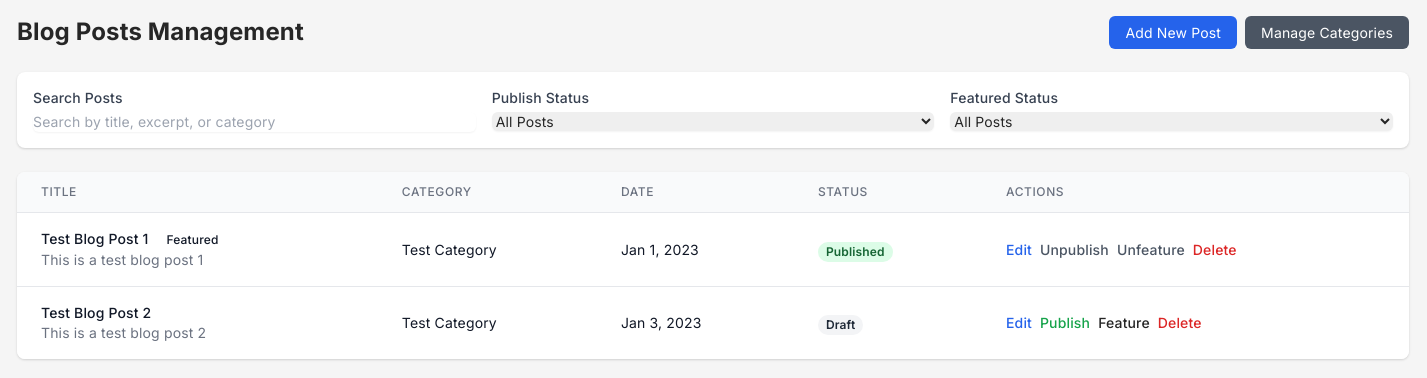
Test: BlogPostsManagement Component › should filter posts by published status
Check: the text "Test Blog Post 1" is shown, box [41,230,148,247]
Check: the text "Test Blog Post 2" is shown, box [41,304,151,321]
Get the published filter dropdown and change its value
Select "Published" in the dropdown labelled "Publish Status": (713, 122) [492,112,934,131]
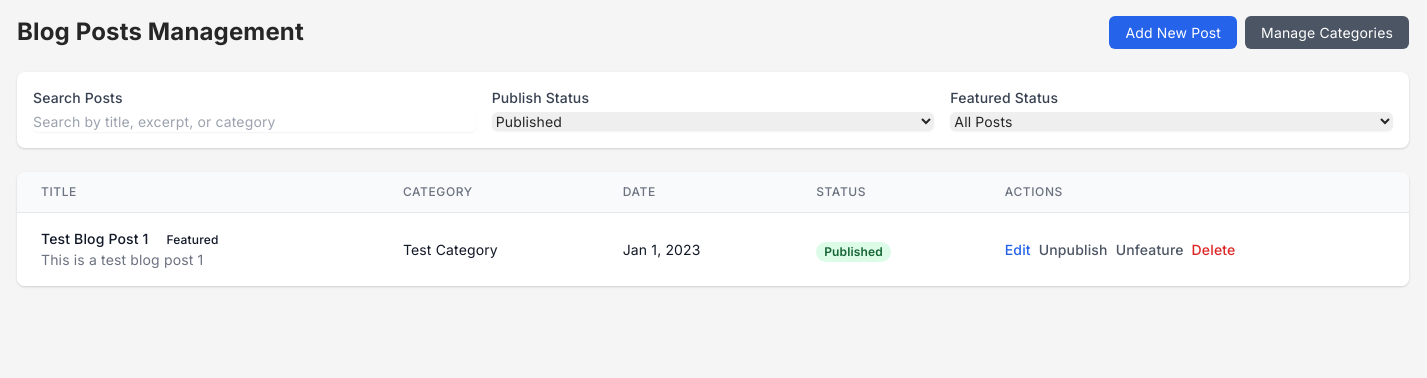
Check: the text "Test Blog Post 1" is shown, box [41,230,148,247]
Check: the text "Test Blog Post 2" is gone
